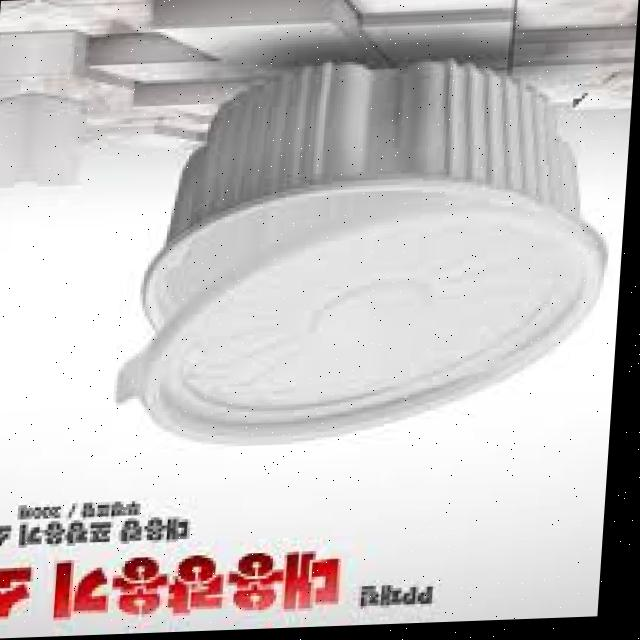disposable: (111, 37, 637, 468)
